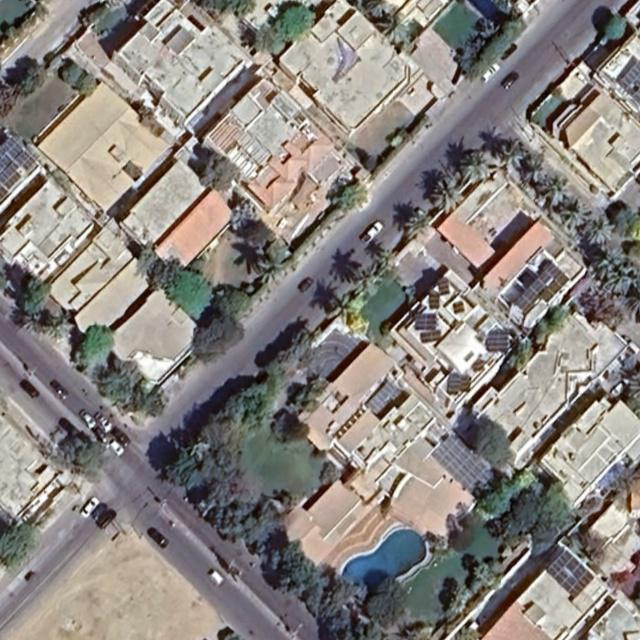solar panel: (430, 433, 489, 492), (544, 547, 598, 601), (514, 262, 564, 313), (0, 136, 36, 198), (363, 377, 402, 417), (622, 61, 639, 100), (487, 334, 511, 352), (448, 375, 471, 392), (416, 313, 437, 330), (428, 291, 442, 310), (421, 330, 442, 342), (453, 300, 466, 316), (440, 278, 451, 296)
